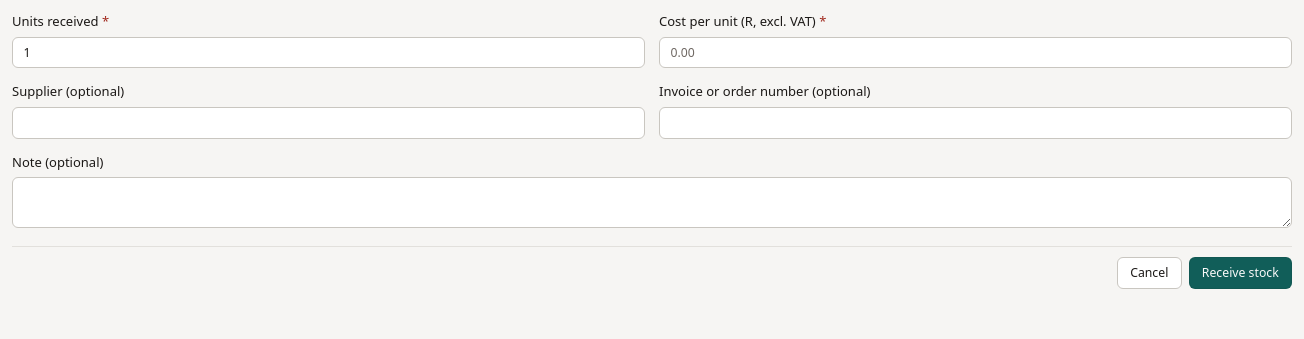
Test: ReceiveForm › reads the cost in rand and shows the new stock level
The image size is (1304, 339).
Later steps or results of the test are not shown.
Replace the text in the field labelled "Units received *" with "2": (328, 53) [12,37,645,68]
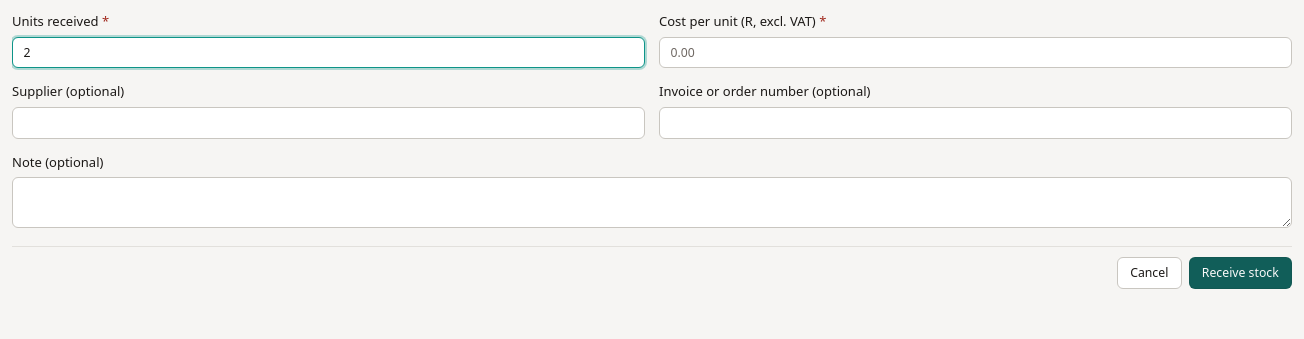
In the field labelled "Cost per unit (R, excl. VAT) *": (976, 53) [659,37,1292,68], type "780,50"
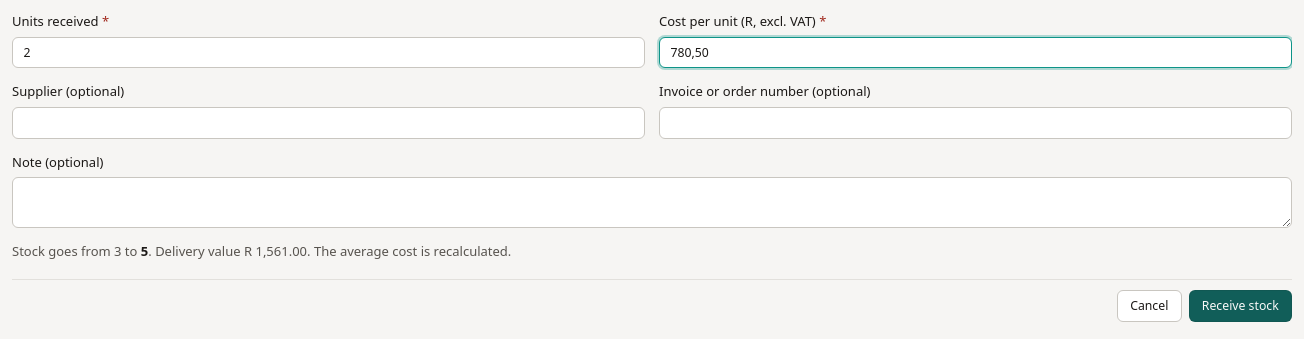
In the field labelled "Supplier (optional)": (328, 123) [12,107,645,138], type "Rectron"
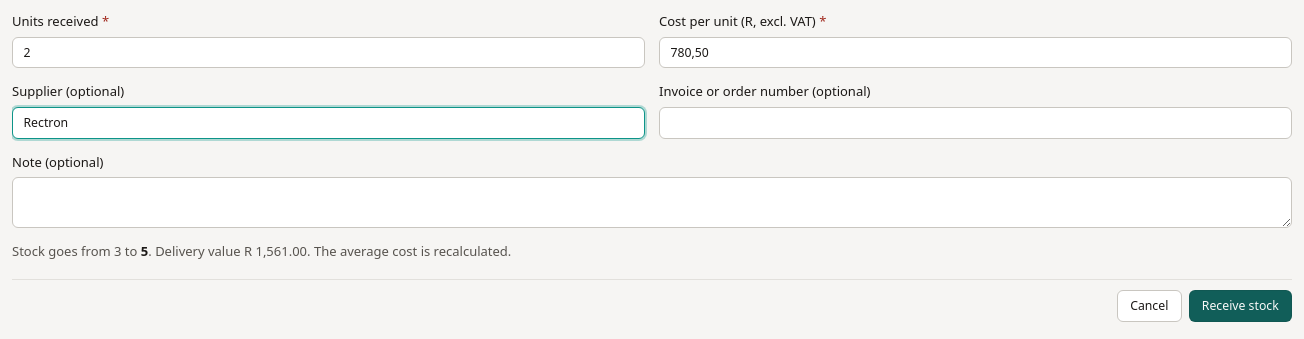
Result: the text "Stock goes from" shows "3 to 5" at [12,242,511,260]
